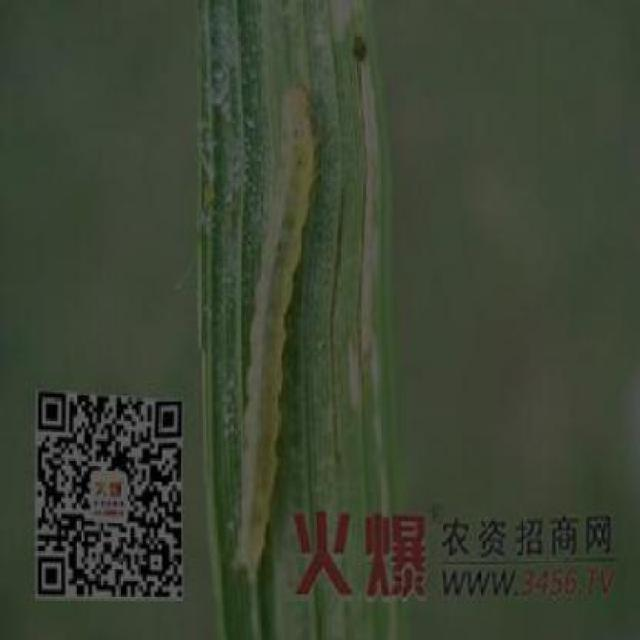leaf-folder: (218, 71, 352, 483)
